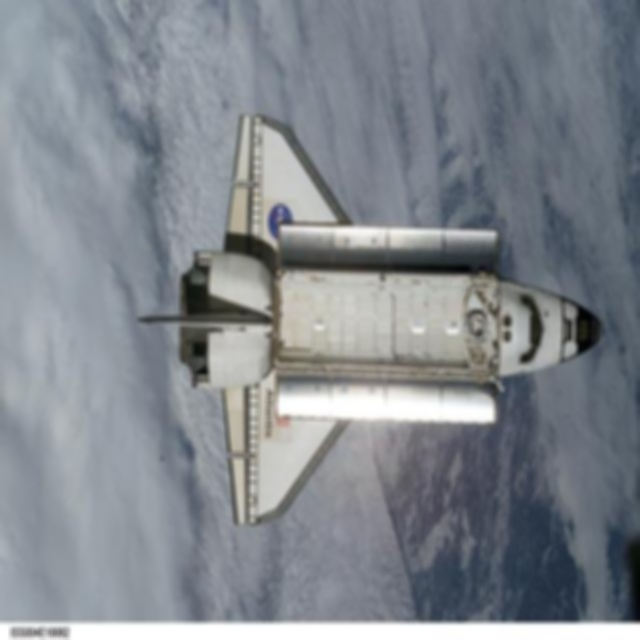medium_debris: (136, 112, 605, 529)
